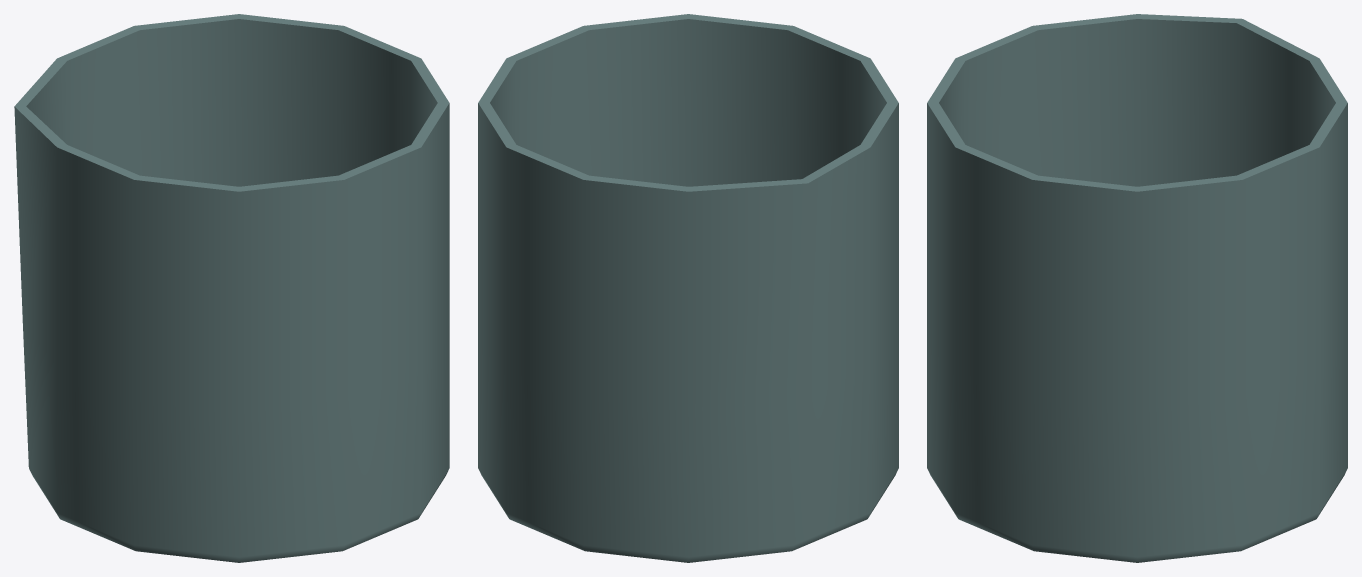
Rendered from hcl_dissolve_water.fbx.
3 views of the same model, side by side, from view 1: azimuth 30°, elevation 25°; view 2: azimuth 150°, elevation 25°; view 3: azimuth 270°, elevation 25° (orthographic).
Visible parts, largest first — view 1: polySurface1; view 2: polySurface1; view 3: polySurface1.
Part boxes in pixels (bbox=[...]): polySurface1: bbox=[14, 14, 449, 562]; polySurface1: bbox=[478, 14, 898, 562]; polySurface1: bbox=[927, 14, 1347, 562].
Bounding box in the file's own units: 12.19 × 12.01 × 12.19.
